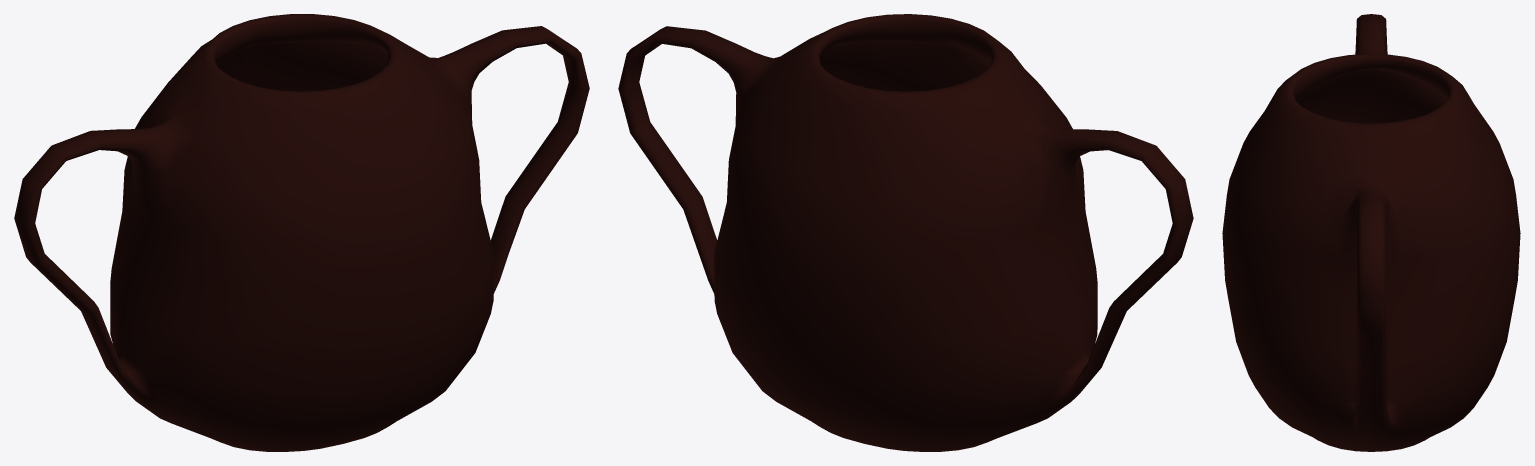
The model's file is Vase_2.fbx.
3 views of the same model, side by side, from view 1: azimuth 30°, elevation 25°; view 2: azimuth 150°, elevation 25°; view 3: azimuth 270°, elevation 25° (orthographic). The views are drawn at different scales.
Visible parts, largest first — view 1: Vase_2; view 2: Vase_2; view 3: Vase_2.
Part boxes in pixels (left/top/right/bottom): Vase_2: left=14, top=14, right=589, bottom=451; Vase_2: left=618, top=14, right=1193, bottom=451; Vase_2: left=1222, top=14, right=1520, bottom=451.
Size of the model in its own units: 33.65 by 20.46 by 17.11.
